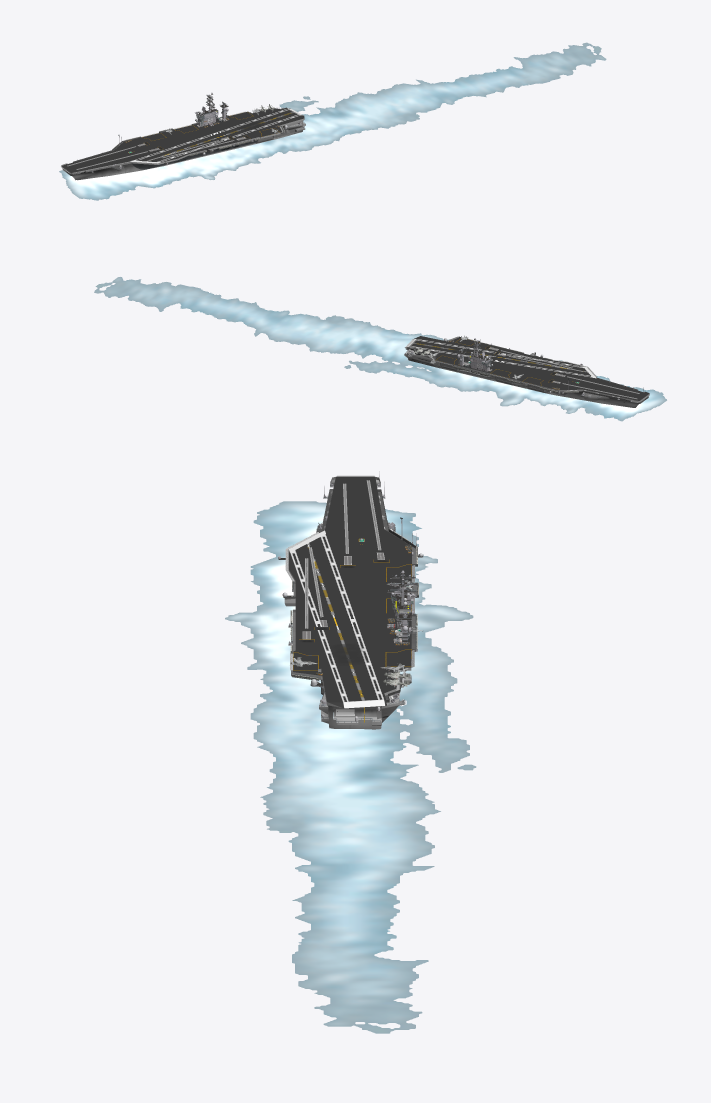
Rendered from eisenhower.glb.
3 renders of one model, top to bottom at view 1: azimuth 30°, elevation 25°; view 2: azimuth 150°, elevation 25°; view 3: azimuth 270°, elevation 25°, orthographic. The views are drawn at different scales.
Visible parts, largest first — view 1: Wake, deck-5-surf, Deck-4, Hull-Port, Sponson-Port, Deck-Underside; view 2: Wake, deck-5-surf, Deck-4, Hull_Stbd; view 3: Wake, deck-5-surf, Deck-4.
Boxes of the visible parts, box(x1,y1,x2,y2) form: Wake: box(59, 42, 606, 200); deck-5-surf: box(62, 108, 303, 172); Deck-4: box(130, 108, 300, 163); Hull-Port: box(66, 120, 303, 180); Sponson-Port: box(131, 140, 257, 169); Deck-Underside: box(61, 118, 304, 174); Wake: box(94, 277, 666, 421); deck-5-surf: box(409, 336, 648, 400); Deck-4: box(409, 339, 596, 378); Hull_Stbd: box(408, 357, 644, 407); Wake: box(225, 501, 476, 1033); deck-5-surf: box(288, 476, 411, 702); Deck-4: box(289, 530, 384, 702).
Size of the model in its own units: 872 by 60.76 by 169.
Materials: 103 (86 with a texture image).
